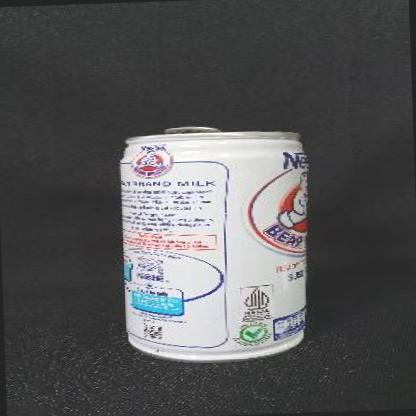alumunium_can: (118, 124, 315, 366)
